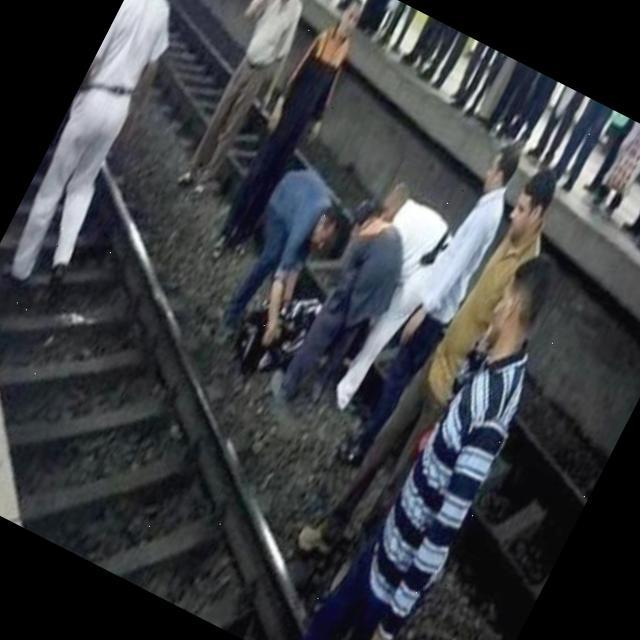person: (298, 145, 576, 592), (288, 237, 590, 640), (0, 0, 226, 321), (332, 138, 536, 481), (197, 0, 384, 278), (254, 193, 434, 433), (157, 0, 335, 212), (201, 156, 363, 368)
